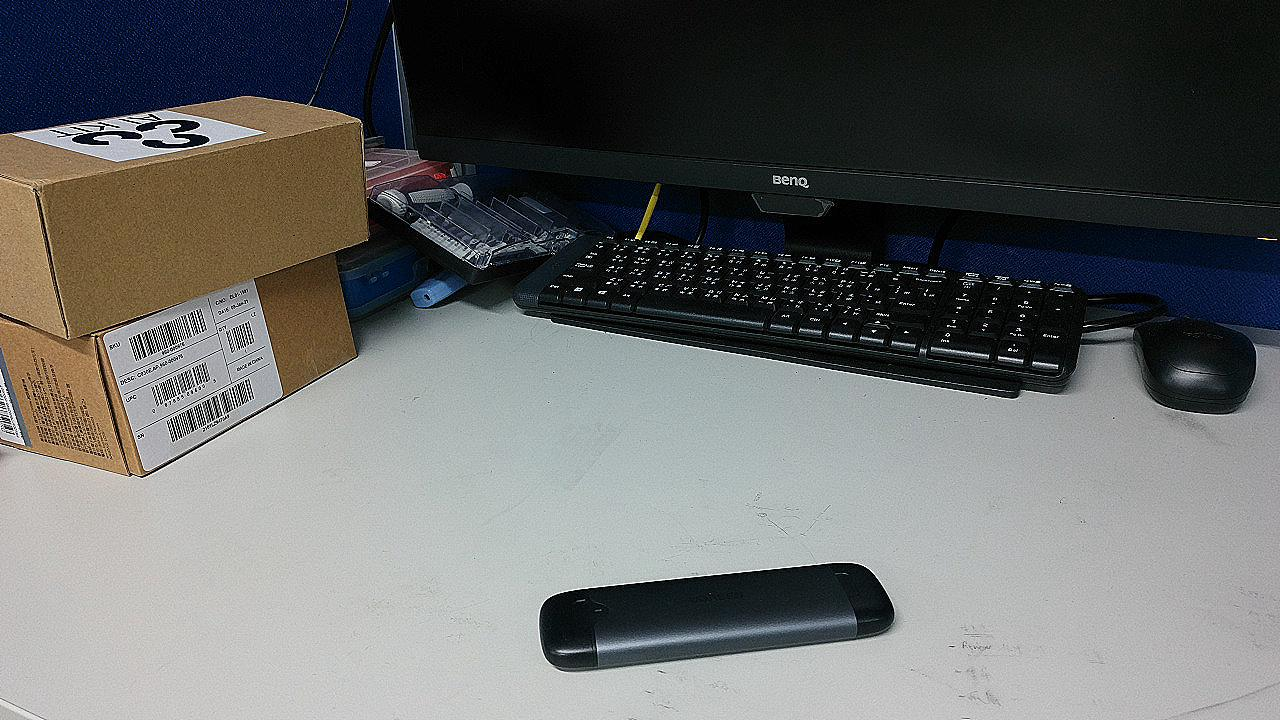blade: (610, 524, 810, 584)
grasp: (404, 494, 624, 581)
